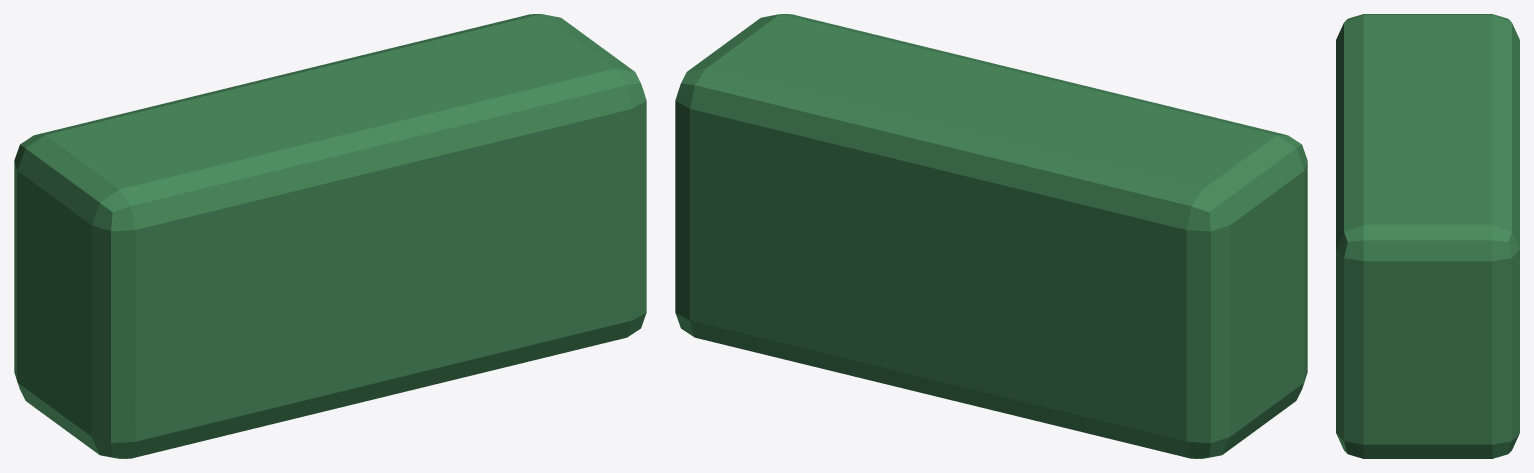
Rendered from Vegetation_011.glb.
The picture shows the model from 3 angles, left to right: view 1: azimuth 30°, elevation 25°; view 2: azimuth 150°, elevation 25°; view 3: azimuth 270°, elevation 25°; orthographic projection. The views are drawn at different scales.
Parts seen in each view (by area): view 1: Vegetation_011; view 2: Vegetation_011; view 3: Vegetation_011.
Part boxes in pixels (x1,y1,x2,y2): Vegetation_011: (14,14,646,458); Vegetation_011: (675,14,1307,458); Vegetation_011: (1336,14,1519,458).
Size of the model in its own units: 3 by 1.4 by 1.
